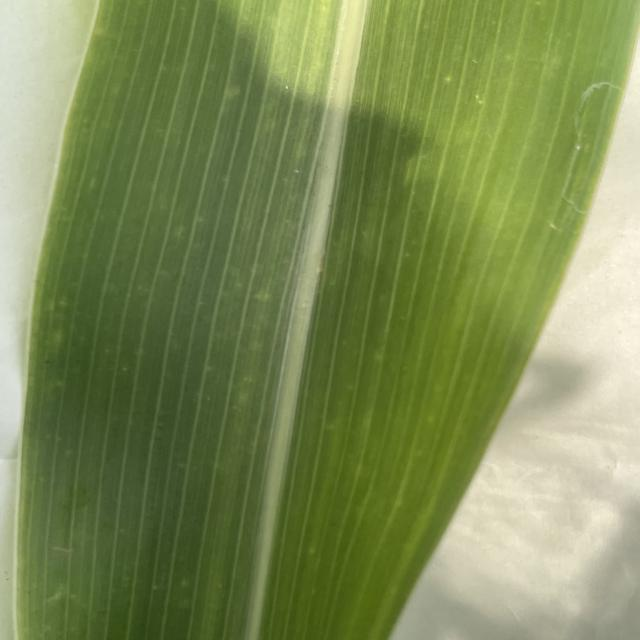millet_healthy: (11, 2, 640, 640)
